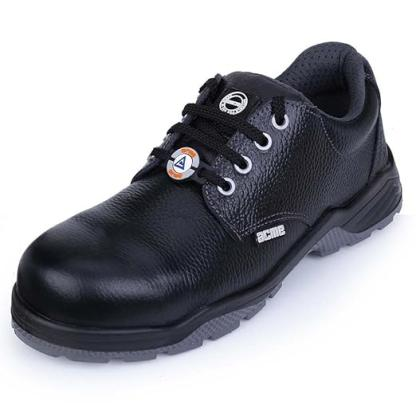bota: (6, 39, 406, 369)
